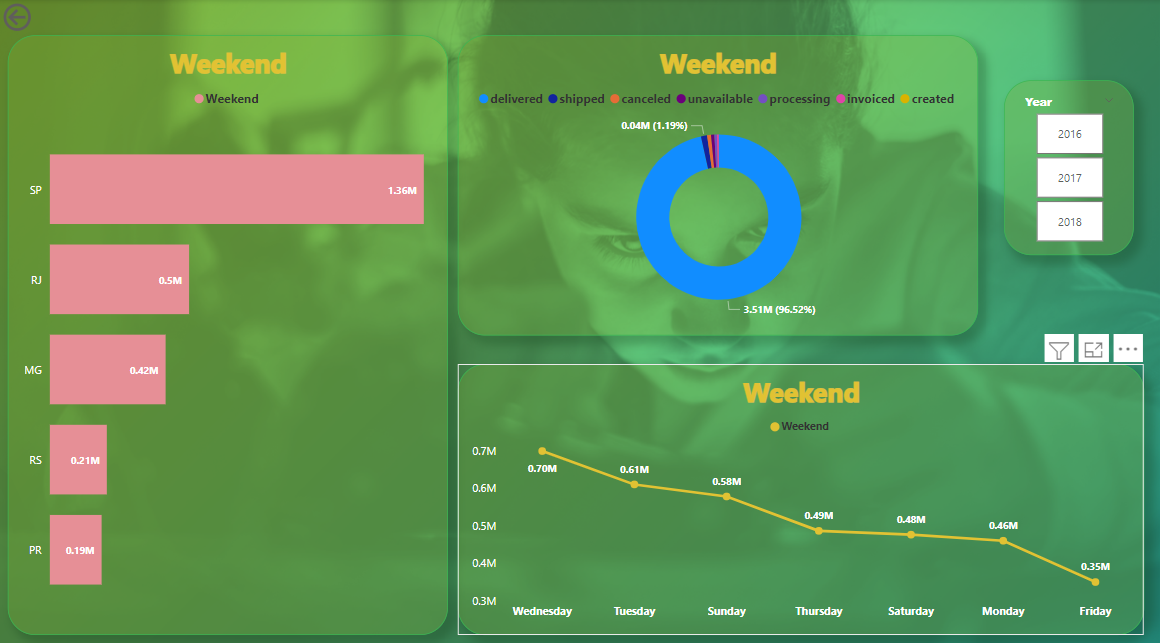

What the dashboard file says about the page in this screenshot:
{"tool":"tableau","page":{"name":"Dashboard 4","canvas":[1000,1000],"units":"permille","ordinal":3},"visuals":[{"type":"blank","box":[0,0,1000,17.6]},{"type":"filter","title":"KPI4.1","param":"[federated.127wc8918z9zki14frpf21odrj9i].[yr:order_purchase_timestamp:ok]","box":[898.6,9.4,96.6,150.4]},{"type":"dashboard-object","box":[0,17.6,60.4,117.5]},{"type":"image","param":"C:/Users/afrin/Downloads/pricepay.jpg","box":[60.4,17.6,70,117.5]},{"type":"text","box":[130.3,17.6,713.3,117.5]},{"type":"dashboard-object","box":[843.7,17.6,156.3,117.5]},{"type":"blank","box":[0,135.1,1000,17.6]},{"type":"worksheet","title":"KPI4.1","mark":"Automatic","box":[0,152.8,1000,423]},{"type":"worksheet","title":"KPI-4.2","mark":"Automatic","rows":["product_category_name"],"cols":["payment_value"],"box":[0,575.8,500.3,424.2]},{"type":"worksheet","title":"KPI-4.3","mark":"Bar","cols":["order_purchase_timestamp"],"box":[500.3,575.8,499.7,424.2]}]}

Visuals, with their boxes on the dashboard's canvas, which has no fixed pixel size, in thousandths of its width and height (x1, y1, x2, y2). These are canvas units, not pixel positions in the 1160x643 screenshot, which may show the page scaled, cropped or inside an application window:
blank: [left=0, top=0, right=1000, bottom=18]
"KPI4.1" filter: [left=899, top=9, right=995, bottom=160]
dashboard-object: [left=0, top=18, right=60, bottom=135]
image: [left=60, top=18, right=130, bottom=135]
text: [left=130, top=18, right=844, bottom=135]
dashboard-object: [left=844, top=18, right=1000, bottom=135]
blank: [left=0, top=135, right=1000, bottom=153]
"KPI4.1" worksheet: [left=0, top=153, right=1000, bottom=576]
"KPI-4.2" worksheet: [left=0, top=576, right=500, bottom=1000]
"KPI-4.3" worksheet (Bar marks): [left=500, top=576, right=1000, bottom=1000]
